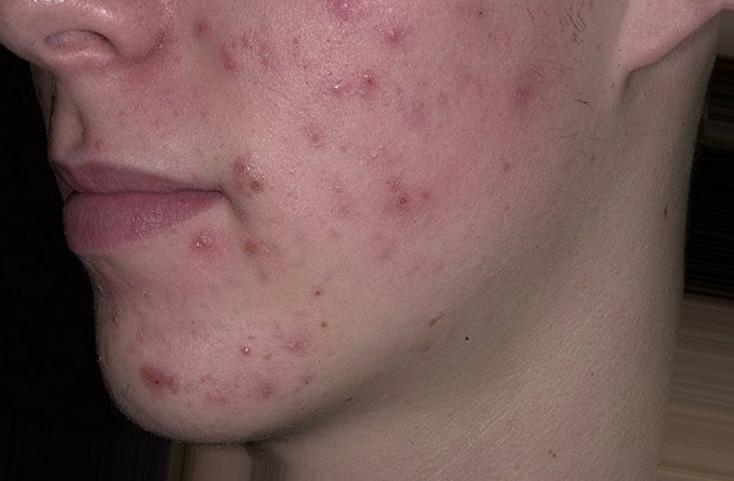Acne: (325, 0, 412, 41), (328, 62, 385, 99), (230, 153, 273, 197), (230, 332, 277, 369), (180, 225, 234, 257), (208, 38, 251, 76), (142, 362, 185, 399), (378, 176, 429, 206), (255, 369, 291, 411), (236, 239, 291, 262)
